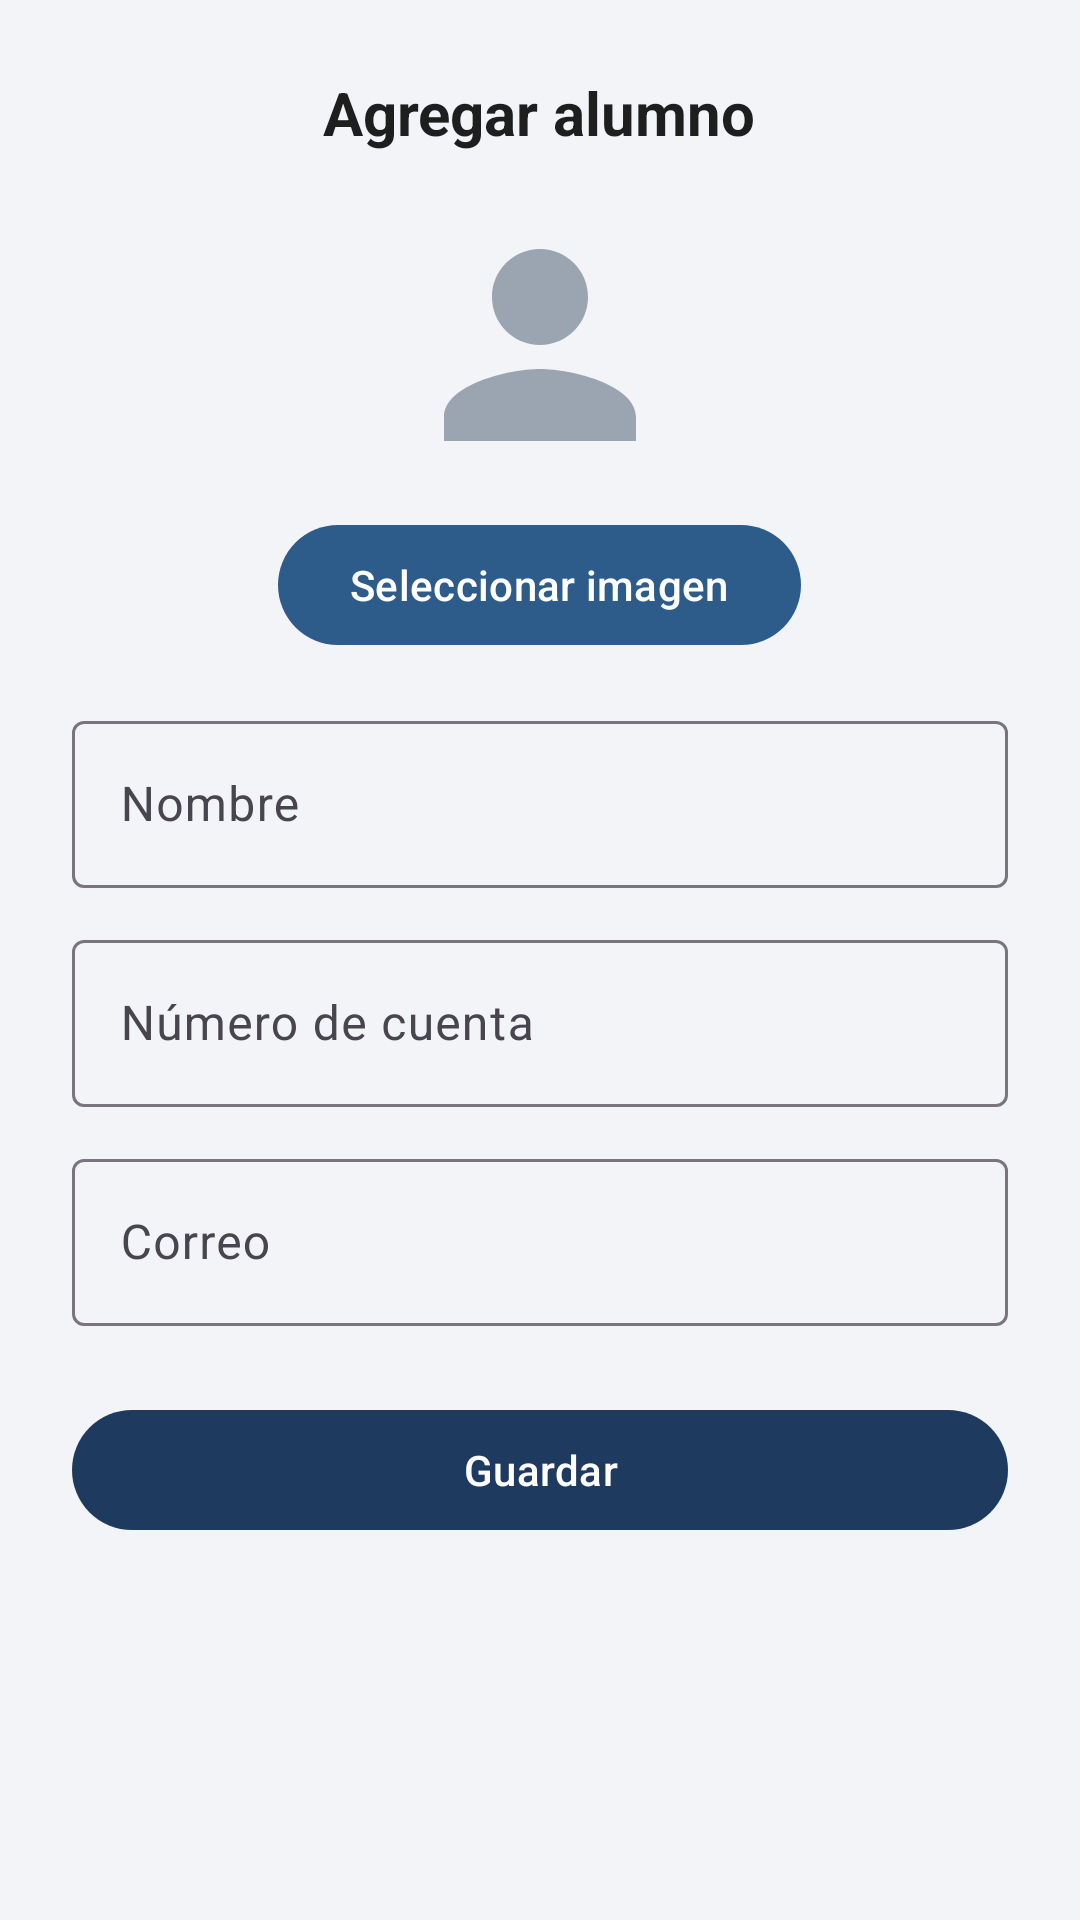

Point at icon controls on the screen. Image size 1080 × 1920, points as [x,y].
Imagen del alumno: [540,345]
